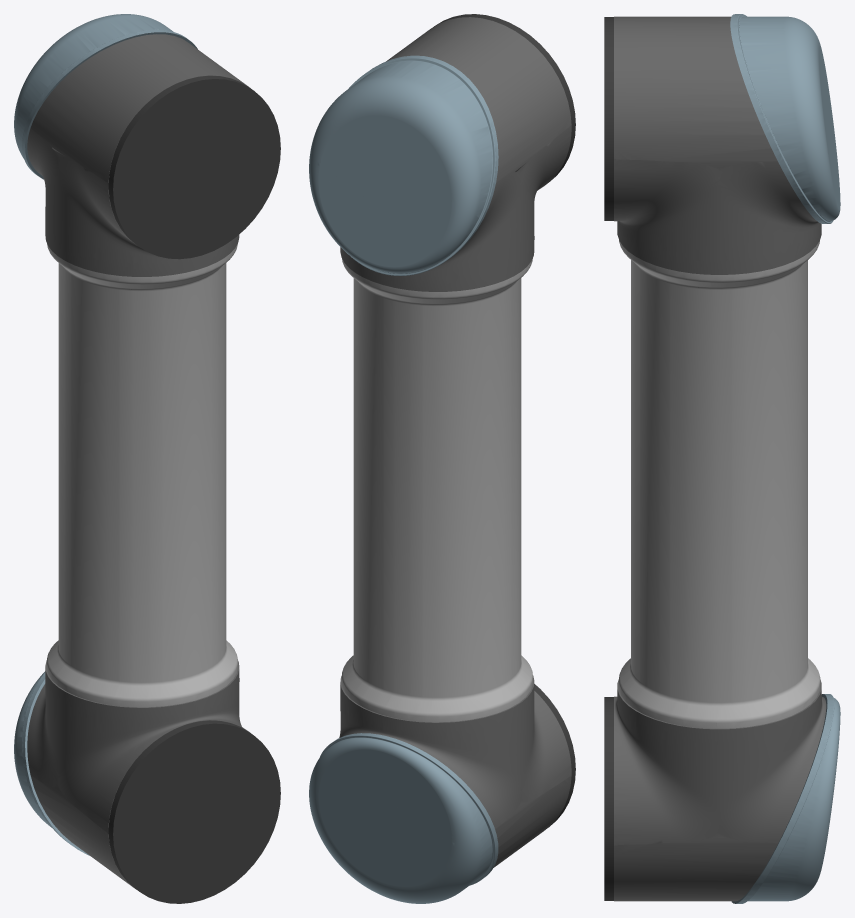
3 views of the same model, side by side, from view 1: azimuth 30°, elevation 25°; view 2: azimuth 150°, elevation 25°; view 3: azimuth 270°, elevation 25° (orthographic). The views are drawn at different scales.
Visible parts, largest first — view 1: ActorShape3_0-Mesh_011-mesh, ActorShape0_0-Mesh_024-mesh_1, ActorShape2_0-Mesh_011-mesh_1, ActorShape2_0-Mesh_011-mesh, ActorShape0_0-Mesh_024-mesh, ActorShape1_0-Mesh_018-mesh, ActorShape4_0-Mesh_004-mesh; view 2: ActorShape3_0-Mesh_011-mesh, ActorShape1_0-Mesh_018-mesh, ActorShape4_0-Mesh_004-mesh, ActorShape2_0-Mesh_011-mesh, ActorShape0_0-Mesh_024-mesh, ActorShape2_0-Mesh_011-mesh_1, ActorShape0_0-Mesh_024-mesh_1; view 3: ActorShape3_0-Mesh_011-mesh, ActorShape2_0-Mesh_011-mesh, ActorShape0_0-Mesh_024-mesh, ActorShape1_0-Mesh_018-mesh, ActorShape4_0-Mesh_004-mesh, ActorShape0_0-Mesh_024-mesh_1, ActorShape2_0-Mesh_011-mesh_1.
Boxes of the visible parts, left/top/right/bottom form: ActorShape3_0-Mesh_011-mesh: left=46, top=243, right=237, bottom=707; ActorShape0_0-Mesh_024-mesh_1: left=108, top=720, right=280, bottom=903; ActorShape2_0-Mesh_011-mesh_1: left=108, top=75, right=280, bottom=259; ActorShape2_0-Mesh_011-mesh: left=27, top=34, right=248, bottom=276; ActorShape0_0-Mesh_024-mesh: left=27, top=661, right=248, bottom=888; ActorShape1_0-Mesh_018-mesh: left=14, top=14, right=197, bottom=179; ActorShape4_0-Mesh_004-mesh: left=14, top=671, right=89, bottom=855; ActorShape3_0-Mesh_011-mesh: left=342, top=258, right=532, bottom=722; ActorShape1_0-Mesh_018-mesh: left=309, top=55, right=498, bottom=275; ActorShape4_0-Mesh_004-mesh: left=309, top=733, right=498, bottom=903; ActorShape2_0-Mesh_011-mesh: left=340, top=17, right=571, bottom=291; ActorShape0_0-Mesh_024-mesh: left=339, top=675, right=571, bottom=867; ActorShape2_0-Mesh_011-mesh_1: left=434, top=14, right=575, bottom=181; ActorShape0_0-Mesh_024-mesh_1: left=534, top=684, right=575, bottom=827; ActorShape3_0-Mesh_011-mesh: left=618, top=240, right=820, bottom=728; ActorShape2_0-Mesh_011-mesh: left=614, top=16, right=821, bottom=274; ActorShape0_0-Mesh_024-mesh: left=614, top=679, right=826, bottom=901; ActorShape1_0-Mesh_018-mesh: left=730, top=14, right=840, bottom=223; ActorShape4_0-Mesh_004-mesh: left=731, top=694, right=840, bottom=903; ActorShape0_0-Mesh_024-mesh_1: left=604, top=697, right=613, bottom=900; ActorShape2_0-Mesh_011-mesh_1: left=604, top=17, right=613, bottom=220.
Size of the model in its own units: 0.119 by 0.544 by 0.1337.
